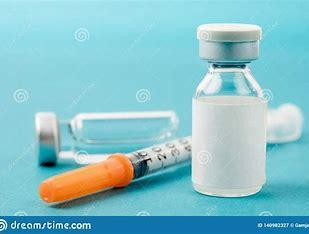Syringe: (193, 20, 270, 201), (32, 146, 193, 195), (32, 106, 177, 142)
